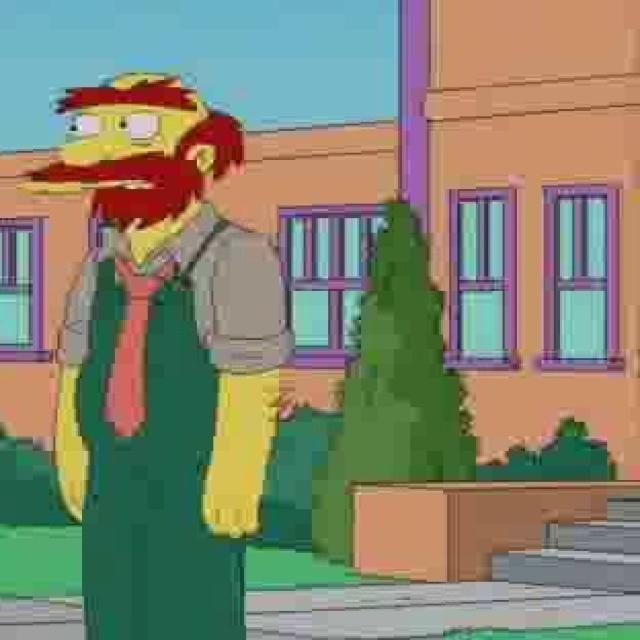Groundskeeper Willie: (20, 70, 247, 254)
